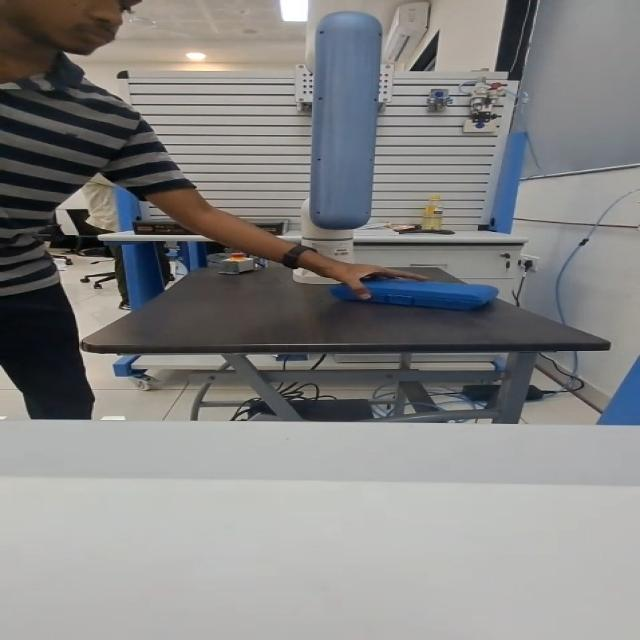top-surface: (363, 277, 478, 293)
